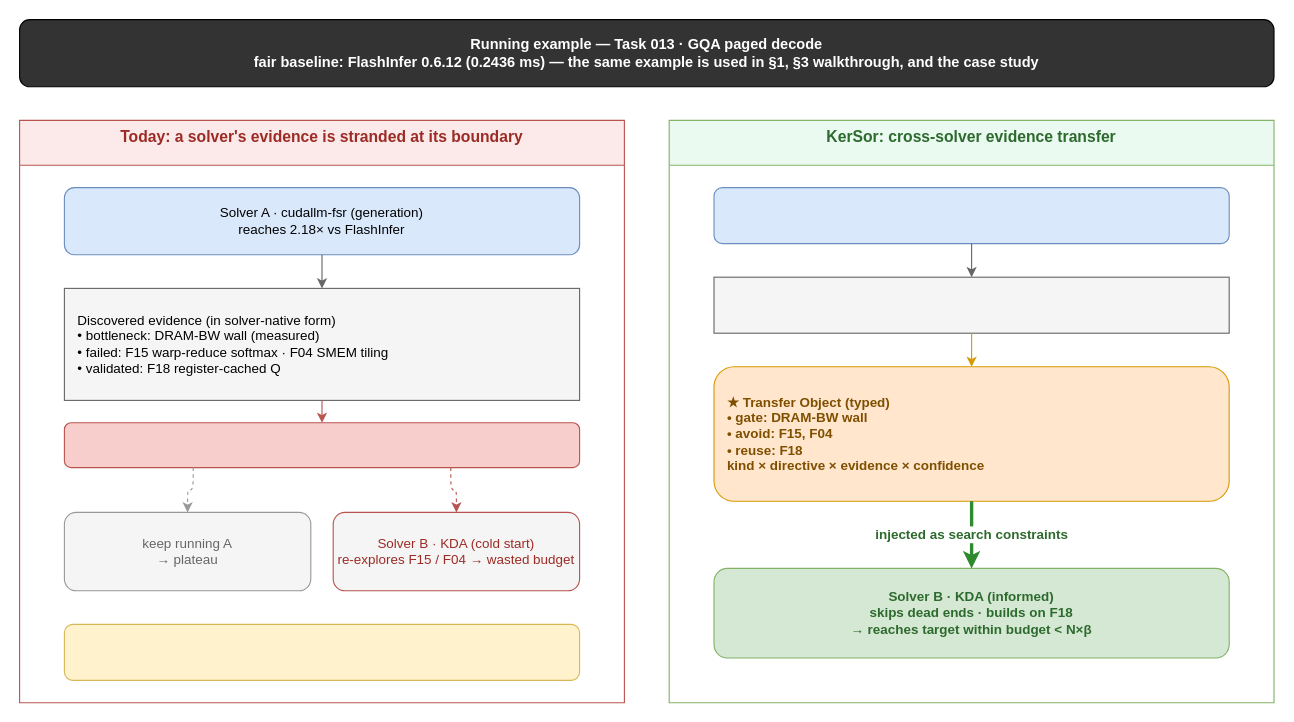
This 1294x722 diagram has some shape labels left out. Each missing label, with the centre of its shape:
Naive portfolio = run all N solvers independently, pick best → N×β GPU-hours: the point at 321,651
result-analyzer · normalize to unified evidence schema: the point at 971,304
Solver A · cudallm-fsr → 2.18×: the point at 971,215
✂ evidence discarded between solvers: the point at 321,445
